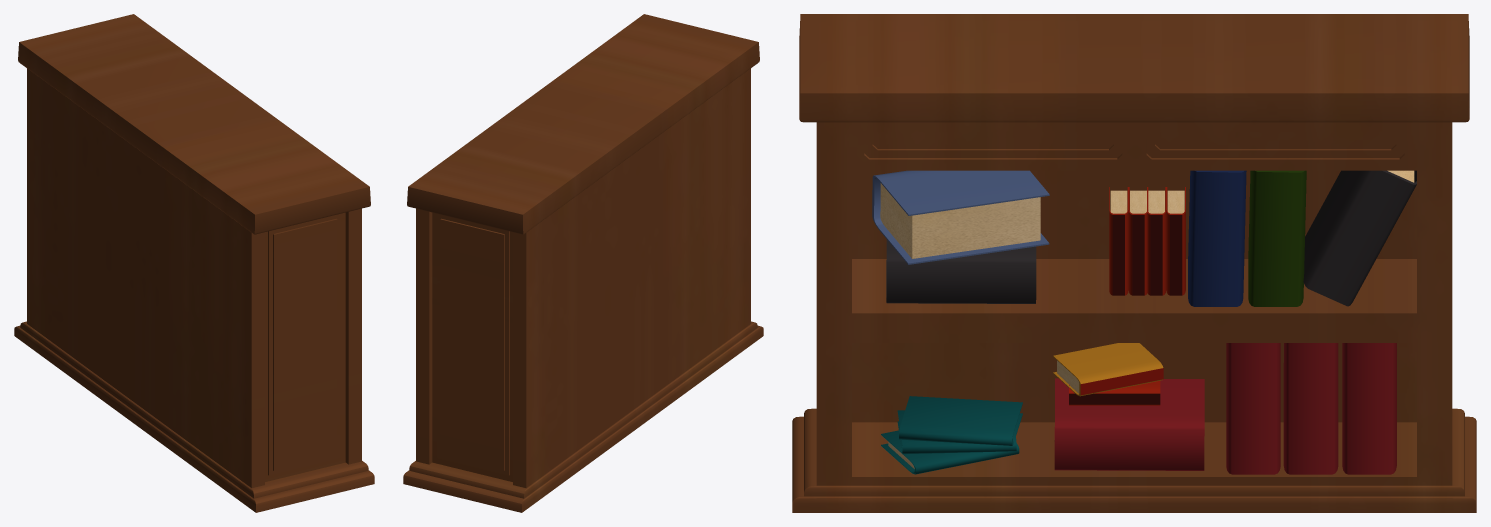
The model's file is bookselfMini.fbx.
3 renders of one model, left to right at view 1: azimuth 30°, elevation 25°; view 2: azimuth 150°, elevation 25°; view 3: azimuth 270°, elevation 25°, orthographic. The views are drawn at different scales.
Parts seen in each view (by area): view 1: Cube.017; view 2: Cube.017; view 3: Cube.017, Cube.035, Cube.033, Cube.028, Cube.030, Cube.032, Cube.034, Cube.029, Cube.039, Cube.037, Cube.055, Cube.060 (+7 smaller).
Part boxes in pixels (x1=…): Cube.017: x1=14, y1=14, x2=374, y2=512; Cube.017: x1=403, y1=14, x2=763, y2=512; Cube.017: x1=792, y1=14, x2=1476, y2=512; Cube.035: x1=872, y1=170, x2=1049, y2=264; Cube.033: x1=1054, y1=378, x2=1204, y2=470; Cube.028: x1=1303, y1=170, x2=1416, y2=306; Cube.030: x1=1248, y1=170, x2=1306, y2=306; Cube.032: x1=1188, y1=170, x2=1246, y2=306; Cube.034: x1=886, y1=239, x2=1036, y2=303; Cube.029: x1=1283, y1=343, x2=1338, y2=474; Cube.039: x1=1342, y1=343, x2=1396, y2=474; Cube.037: x1=1226, y1=343, x2=1280, y2=474; Cube.055: x1=899, y1=396, x2=1022, y2=445; Cube.060: x1=1053, y1=343, x2=1163, y2=396.
Size of the model in its own units: 545 by 1299 by 1922.
